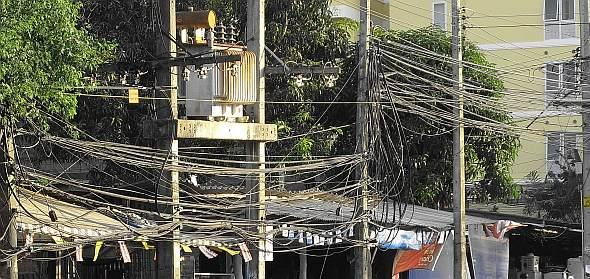wires: (2, 93, 167, 231), (373, 29, 452, 195), (466, 60, 588, 147), (269, 152, 356, 242)
